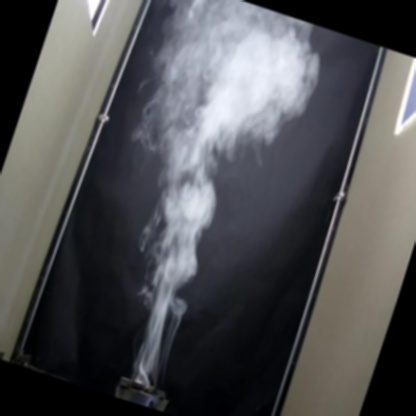smoke: (56, 0, 332, 391)
